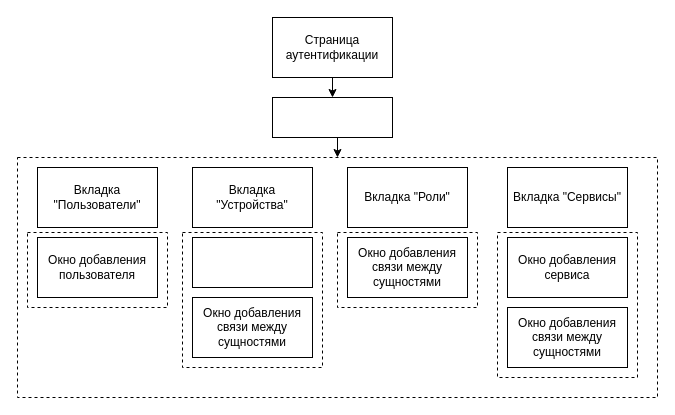
The diagram is 675 pixels wide and 415 high, and some of its shapes have lost their labels. Each missing label, with the box of its shape:
Главная страница приложения: (272, 96, 392, 138)
Окно добавления устройства: (192, 236, 312, 288)
